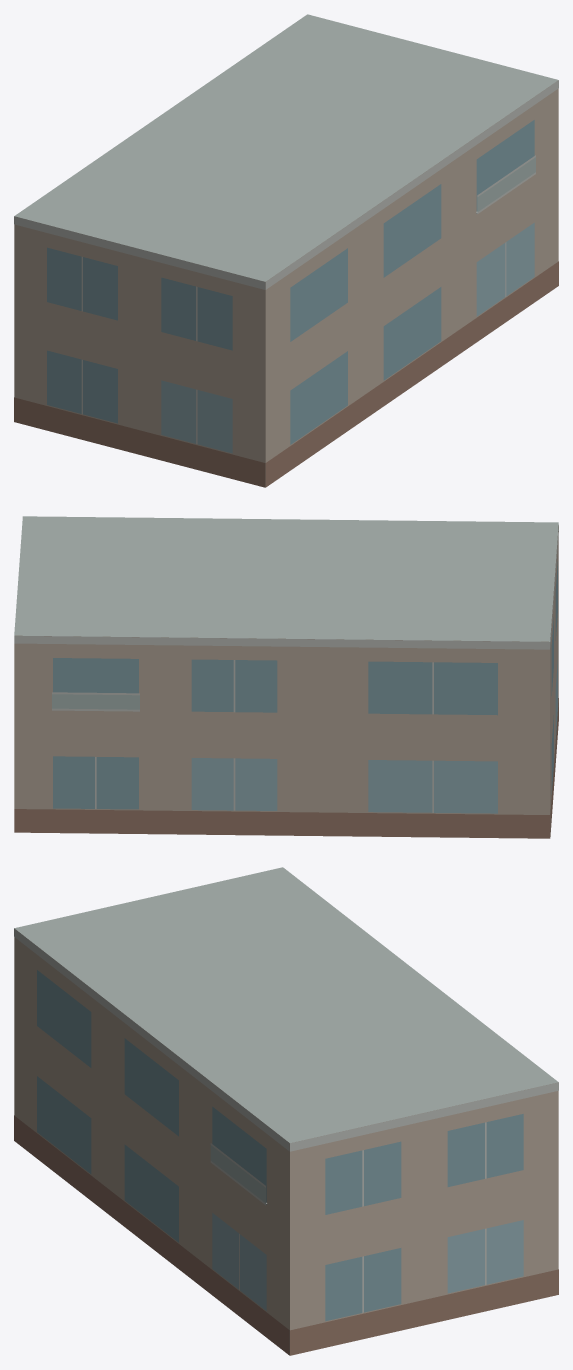
The model's file is survey-upis-32946009.glb.
3 views of the same model, one above another, from view 1: azimuth 30°, elevation 25°; view 2: azimuth 150°, elevation 25°; view 3: azimuth 270°, elevation 25° (orthographic). The views are drawn at different scales.
Visible parts, largest first — view 1: survey-upis-32946009.tmp; view 2: survey-upis-32946009.tmp; view 3: survey-upis-32946009.tmp.
Boxes of the visible parts, bbox=[...] form: survey-upis-32946009.tmp: bbox=[14, 14, 558, 487]; survey-upis-32946009.tmp: bbox=[14, 516, 558, 838]; survey-upis-32946009.tmp: bbox=[14, 867, 558, 1355].
Bounding box in the file's own units: 17.01 × 6.1 × 14.18.
